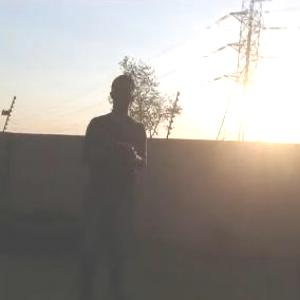follow: (61, 65, 149, 299)
